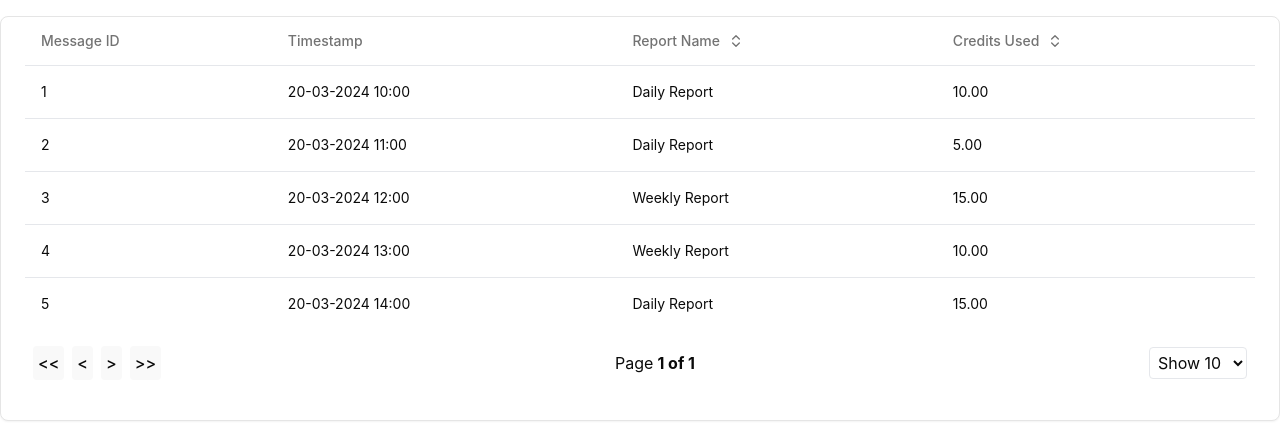
Test: UsageTable Sorting › Multi-Column Sorting › sorts by report name (asc) then credits (asc)
Click the text "Report Name" at {"x": 688, "y": 40}, box [632,32,744,49]
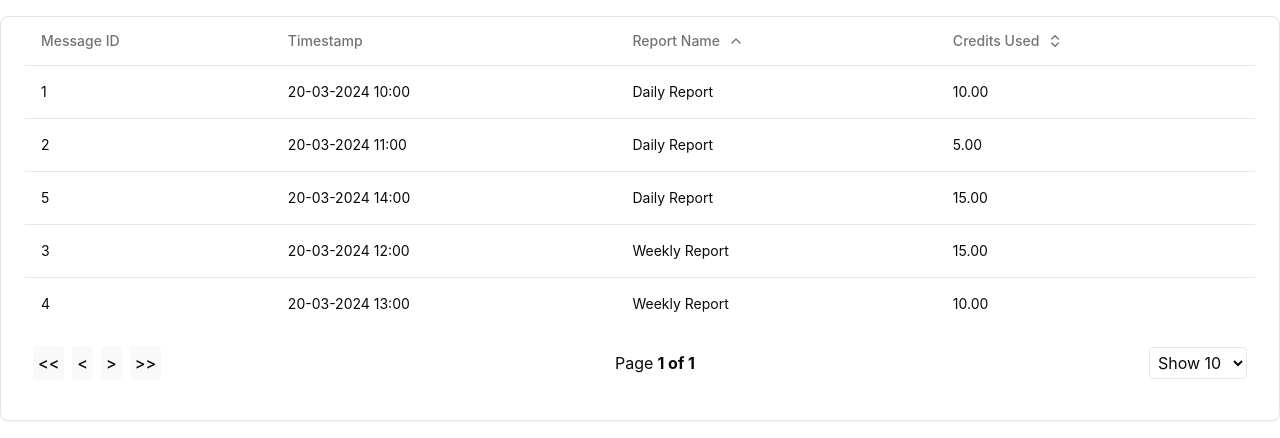
Result: the icon with test id "sort-asc" is shown at [728,33,744,49]
Click the text "Credits Used" at {"x": 1008, "y": 40}, box [953,32,1063,49]
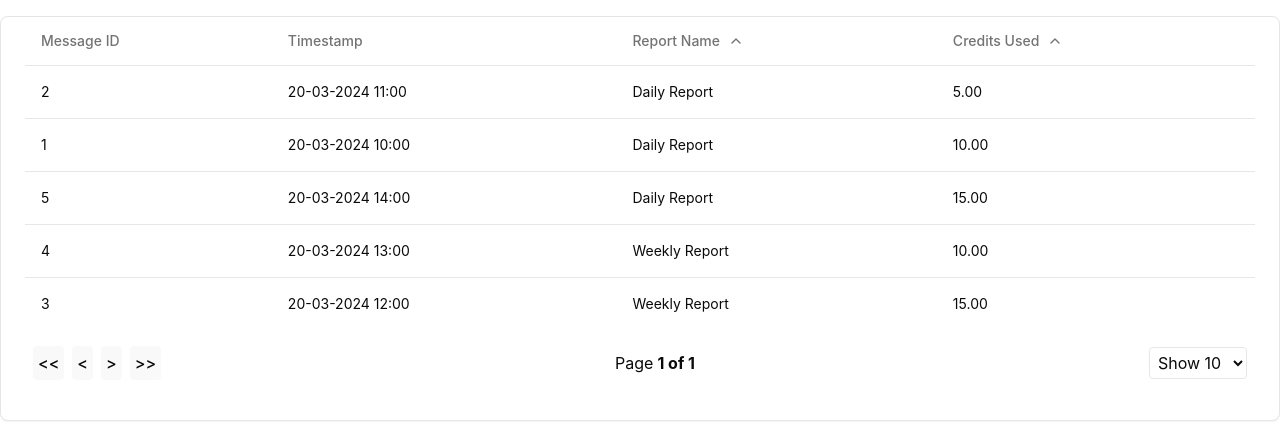
Result: the icon with test id "sort-asc" next to "Credits Used" is shown at [1047,33,1063,49]
